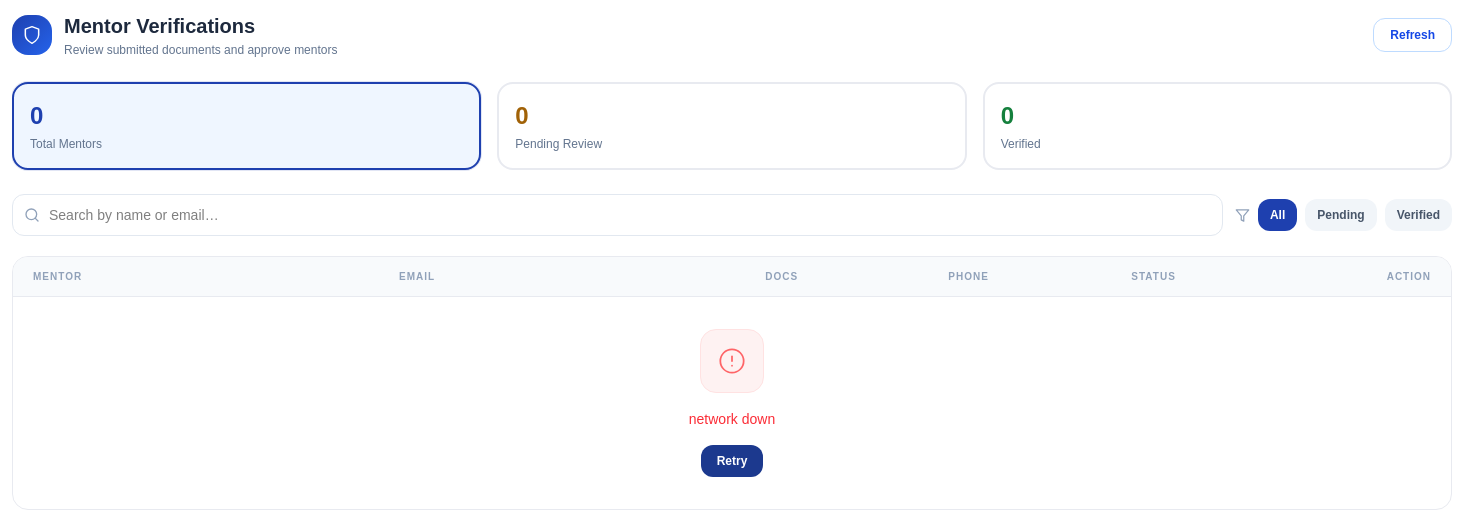
Test: AdminVerifications › shows an error state and retries on button click
This screenshot has width=1464, height=527.
Expected: the text "network down" is shown, [689,409,775,429]
Click the button "Retry" at (732, 461), box [701,445,763,477]
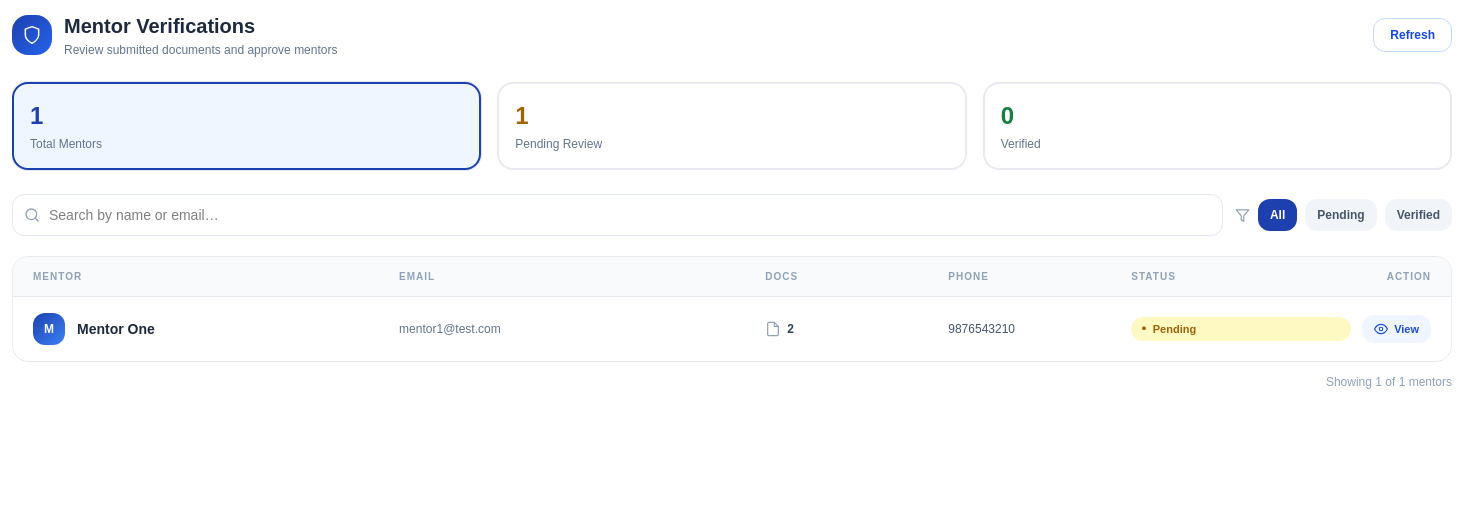
Expected: the text "Mentor One" is shown, [77,319,155,339]
